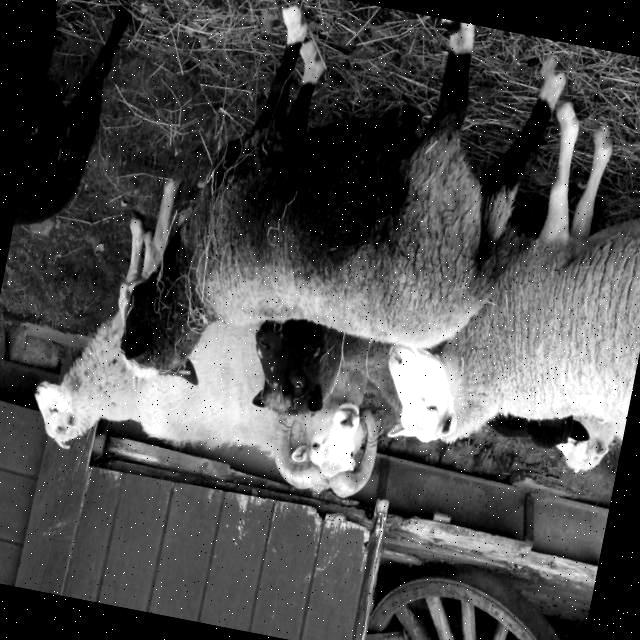sheep: (386, 106, 640, 444)
